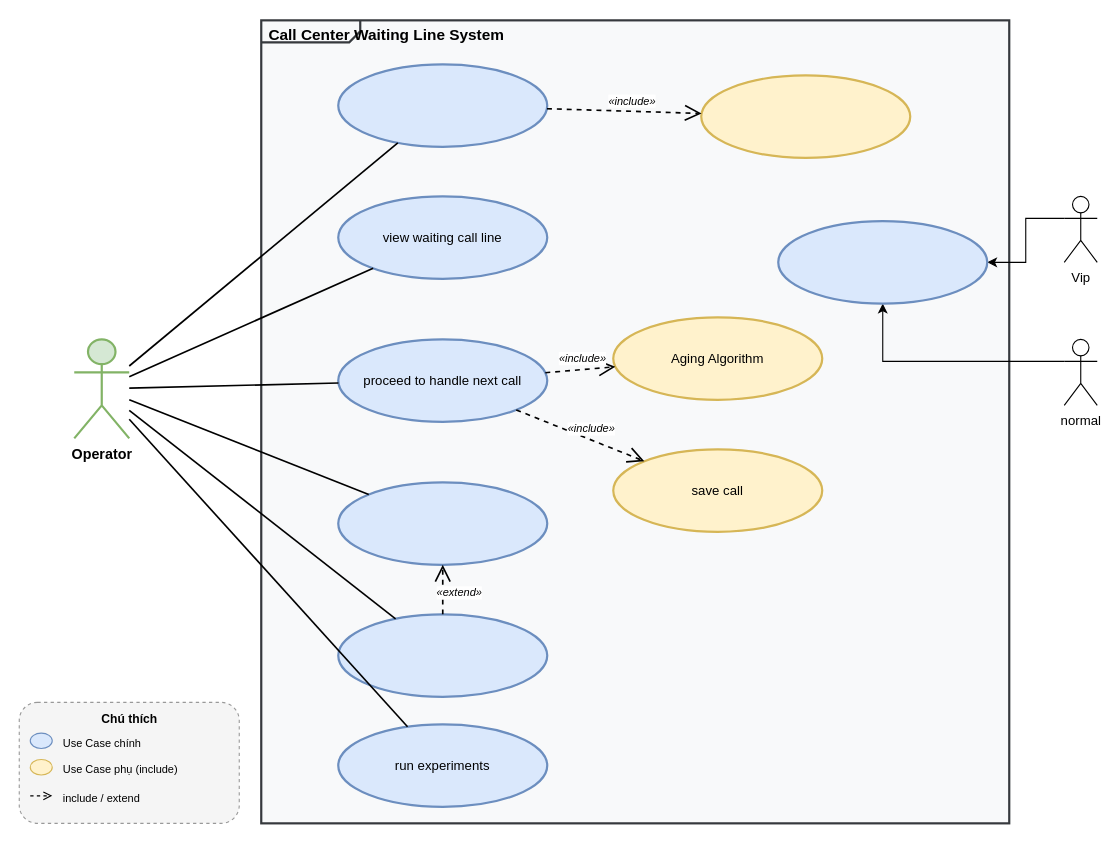
Some shapes in this 1120 by 845 pixel diagram are drawn without their labels. The shapes that lost their labels are listed below. From the top down, each one's centre as x and y in pixels, then its label:
At (x=442, y=105): "Add new call".
At (x=805, y=116): "priority calculate".
At (x=882, y=261): "new call".
At (x=442, y=523): "view call hisstory".
At (x=442, y=655): "find specific call".
